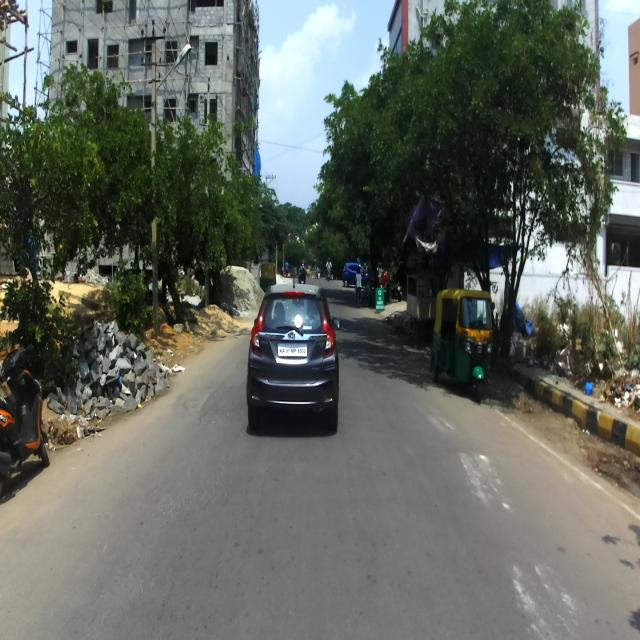auto ahead at: (430, 277, 499, 409)
car ahead at: (247, 279, 342, 432)
motorcycle ahead at: (0, 344, 51, 483)
stones ahead at: (69, 317, 162, 420)
